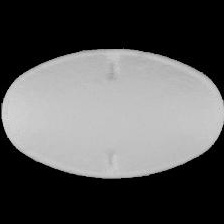0228-2672: (0, 0, 224, 224)
